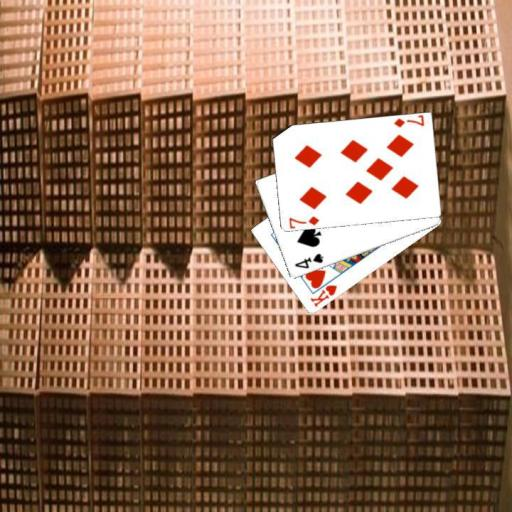4S: (292, 251, 324, 271)
7D: (285, 213, 321, 229), (391, 114, 426, 129)
KH: (307, 282, 339, 309)
